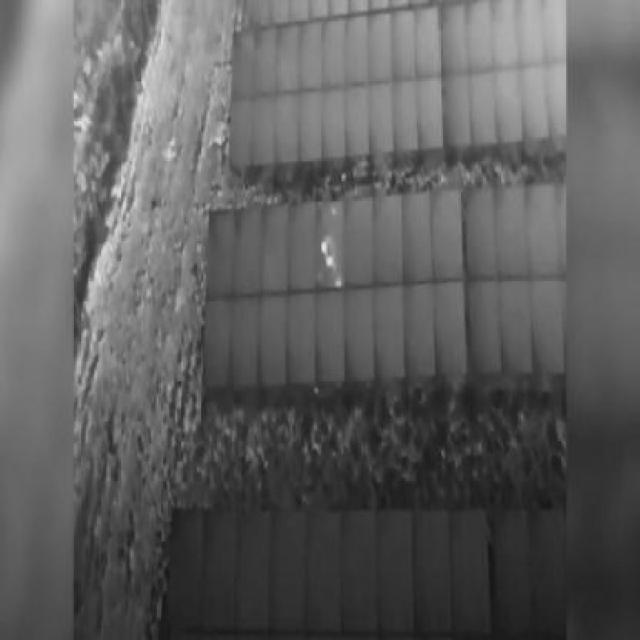hotspot: (316, 238, 329, 253), (336, 278, 342, 288), (327, 257, 333, 266)
